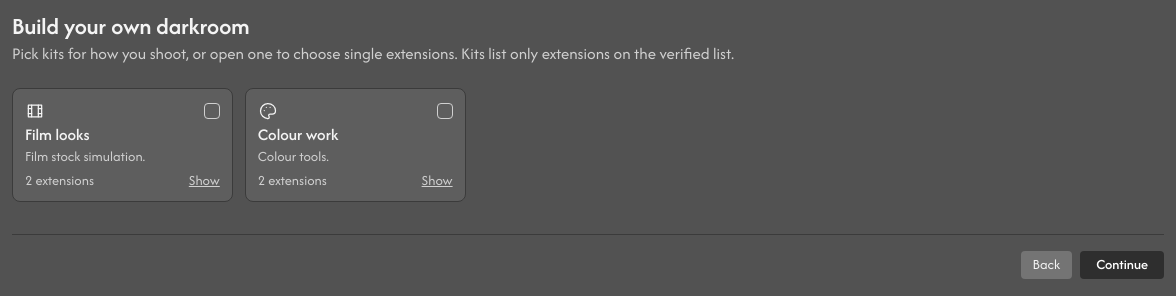
Scenario: KitsStep › ticks every extension of a kit at once
Click the checkbox labelled "Film looks" at (122, 133), box x1=25 y1=101 x2=220 y2=165
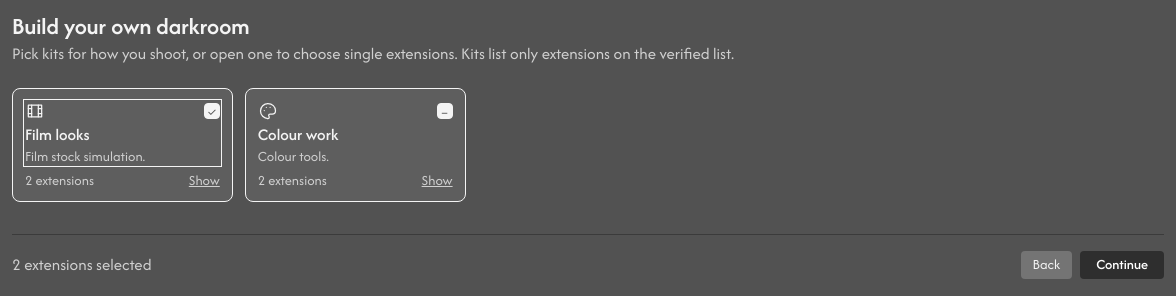
Result: the text "2 extensions selected" is shown at x1=12 y1=255 x2=152 y2=275
